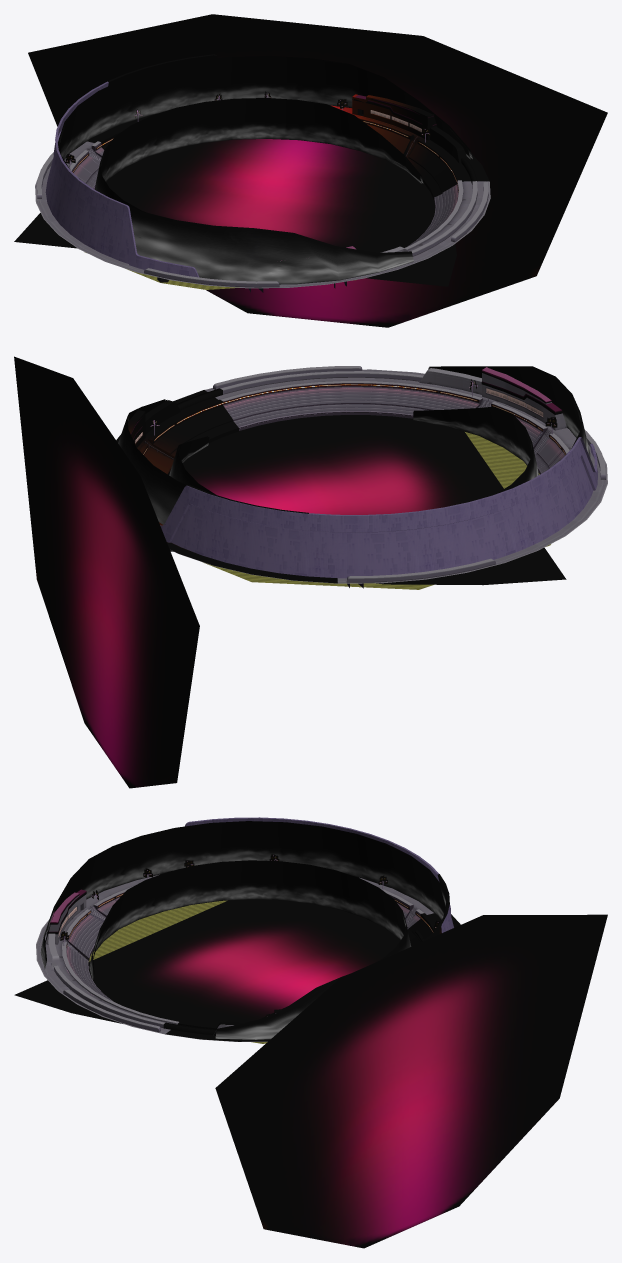
The model's file is breadStationMainObject_shieldDown.fbx.
3 views of the same model, one above another, from view 1: azimuth 30°, elevation 25°; view 2: azimuth 150°, elevation 25°; view 3: azimuth 270°, elevation 25° (orthographic). The views are drawn at different scales.
Visible parts, largest first — view 1: breadStationBackgroundGlowGeo, breadStationSurfaceGlowGeo, breadStationFogScrollingShieldDownGeo, breadStationGrassFogScrollingShieldDownGeo, breadStationRingShieldDownGeo, breadStationPhysicalWallShieldDownGeo, breadStationViewingDecksShieldDownGeo; view 2: breadStationBackgroundGlowGeo, breadStationSurfaceGlowGeo, breadStationPhysicalWallShieldDownGeo, breadStationRingShieldDownGeo, breadStationFogScrollingShieldDownGeo, breadStationGrassFogScrollingShieldDownGeo, breadStationViewingDecksShieldDownGeo, breadStationGroundShieldDownGeo; view 3: breadStationBackgroundGlowGeo, breadStationSurfaceGlowGeo, breadStationFogScrollingShieldDownGeo, breadStationGrassFogScrollingShieldDownGeo, breadStationRingShieldDownGeo, breadStationGroundShieldDownGeo, breadStationPhysicalWallShieldDownGeo, breadStationViewingDecksShieldDownGeo.
Boxes of the visible parts, left/top/right/bottom form: breadStationBackgroundGlowGeo: left=28, top=14, right=607, bottom=327; breadStationSurfaceGlowGeo: left=14, top=54, right=489, bottom=286; breadStationFogScrollingShieldDownGeo: left=58, top=56, right=472, bottom=284; breadStationGrassFogScrollingShieldDownGeo: left=94, top=98, right=423, bottom=212; breadStationRingShieldDownGeo: left=35, top=119, right=490, bottom=292; breadStationPhysicalWallShieldDownGeo: left=45, top=81, right=199, bottom=277; breadStationViewingDecksShieldDownGeo: left=280, top=95, right=436, bottom=261; breadStationBackgroundGlowGeo: left=14, top=356, right=199, bottom=788; breadStationSurfaceGlowGeo: left=116, top=388, right=566, bottom=585; breadStationPhysicalWallShieldDownGeo: left=160, top=437, right=597, bottom=578; breadStationRingShieldDownGeo: left=143, top=366, right=607, bottom=588; breadStationFogScrollingShieldDownGeo: left=118, top=366, right=592, bottom=524; breadStationGrassFogScrollingShieldDownGeo: left=169, top=406, right=538, bottom=494; breadStationViewingDecksShieldDownGeo: left=131, top=367, right=566, bottom=443; breadStationGroundShieldDownGeo: left=203, top=432, right=550, bottom=589; breadStationBackgroundGlowGeo: left=215, top=914, right=607, bottom=1248; breadStationSurfaceGlowGeo: left=14, top=874, right=460, bottom=1041; breadStationFogScrollingShieldDownGeo: left=40, top=821, right=447, bottom=1039; breadStationGrassFogScrollingShieldDownGeo: left=89, top=860, right=411, bottom=1022; breadStationRingShieldDownGeo: left=36, top=874, right=433, bottom=1041; breadStationGroundShieldDownGeo: left=88, top=900, right=267, bottom=1043; breadStationPhysicalWallShieldDownGeo: left=184, top=817, right=453, bottom=932; breadStationViewingDecksShieldDownGeo: left=45, top=889, right=275, bottom=1035.
Bounding box in the file's own units: 345 × 179 × 343.
